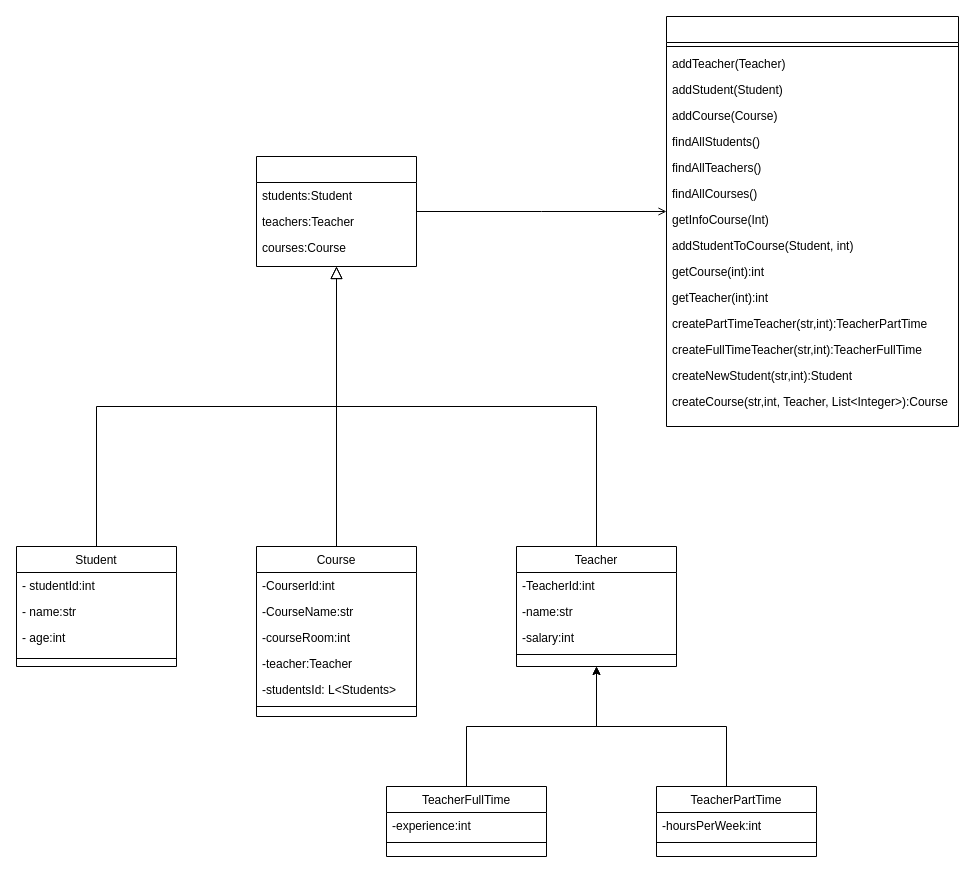
The diagram is 975 pixels wide and 873 high, and some of its shapes have lost their labels. The shapes that lost their labels are listed below. From the top down, each one's box as (x1, y1, x2, y2) in pixels, then its label:
(256, 156, 416, 266): UniversityImple
(666, 16, 958, 426): University
